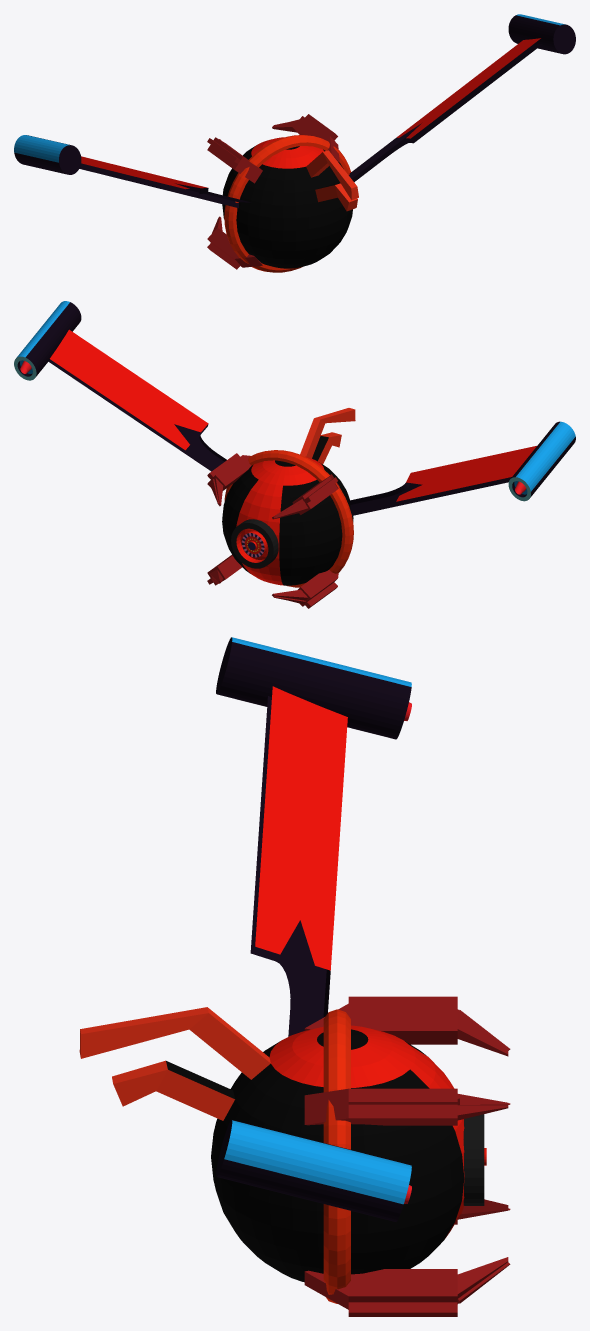
File: drone.fbx
3 renders of one model, top to bottom at view 1: azimuth 30°, elevation 25°; view 2: azimuth 150°, elevation 25°; view 3: azimuth 270°, elevation 25°, orthographic. The views are drawn at different scales.
Parts seen in each view (by area): view 1: Cube; view 2: Cube; view 3: Cube.
Boxes of the visible parts, bbox=[...] form: Cube: bbox=[14, 14, 575, 272]; Cube: bbox=[14, 301, 575, 608]; Cube: bbox=[79, 637, 510, 1316].
Bounding box in the file's own units: 906 × 343 × 327.
